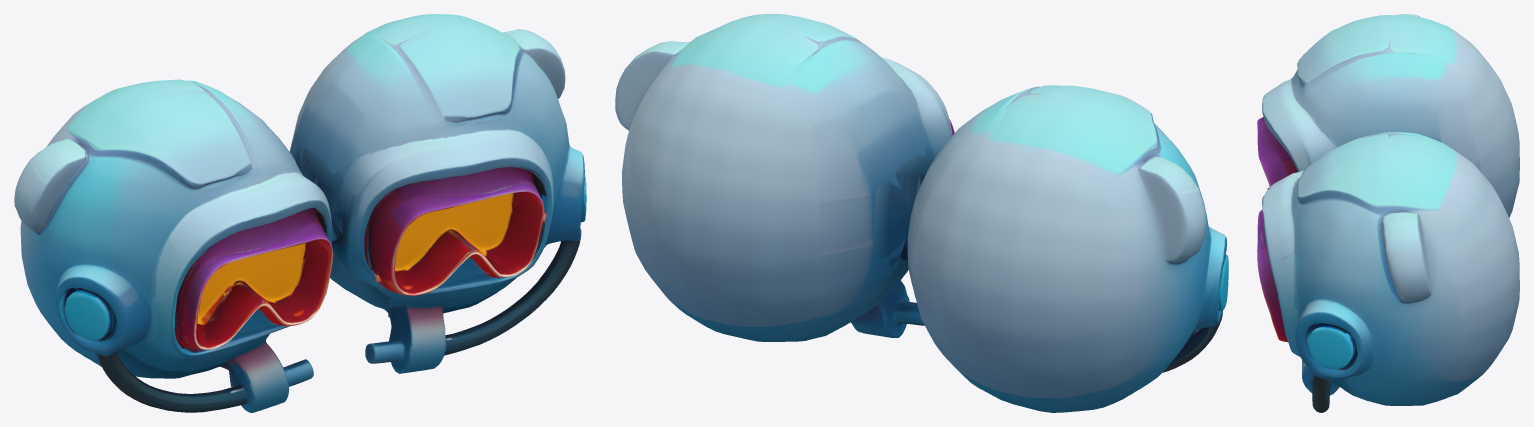
File: friends.glb
3 views of the same model, side by side, from view 1: azimuth 30°, elevation 25°; view 2: azimuth 150°, elevation 25°; view 3: azimuth 270°, elevation 25° (orthographic). The views are drawn at different scales.
Parts seen in each view (by area): view 1: model; view 2: model; view 3: model.
Part boxes in pixels (left/top/right/bottom): model: left=14, top=14, right=586, bottom=412; model: left=615, top=14, right=1228, bottom=412; model: left=1257, top=14, right=1519, bottom=412.
Bounding box in the file's own units: 1.9 × 1.01 × 0.891.
1 material, 1 textured.
